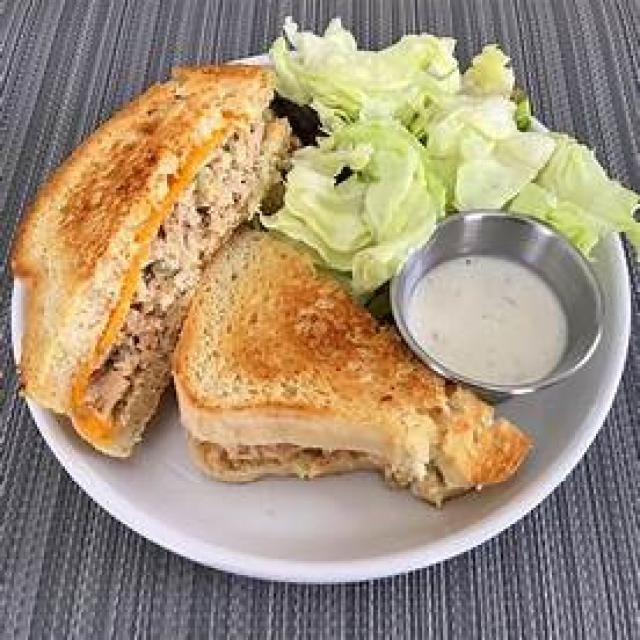Sandwich: (5, 56, 385, 564)
